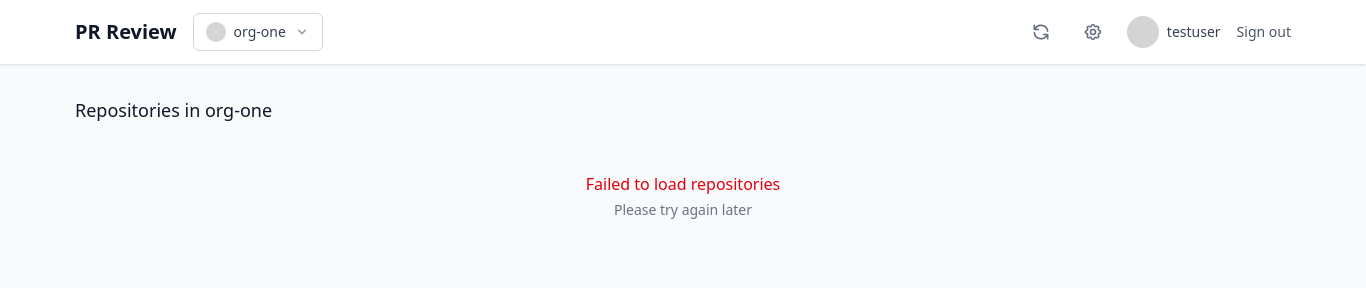
Test: Dashboard › allows dismissing error message
The image size is (1366, 288).
Click the button titled "Refresh" at (1041, 32), box [1023,14,1059,50]
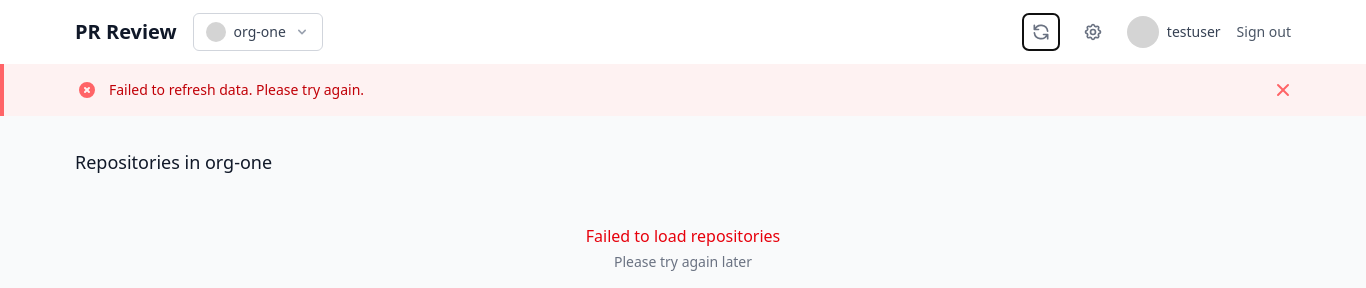
Now the text "Failed to refresh data. Please try again." is shown, box [109,80,364,100]
Now the 4th button is shown
Click the 4th button at (1283, 90), box [1273,80,1293,100]
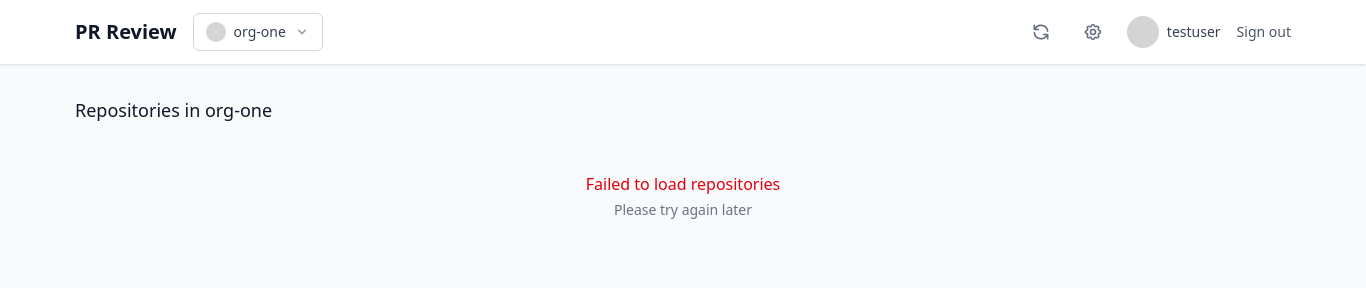
Now the text "Failed to refresh" is gone
